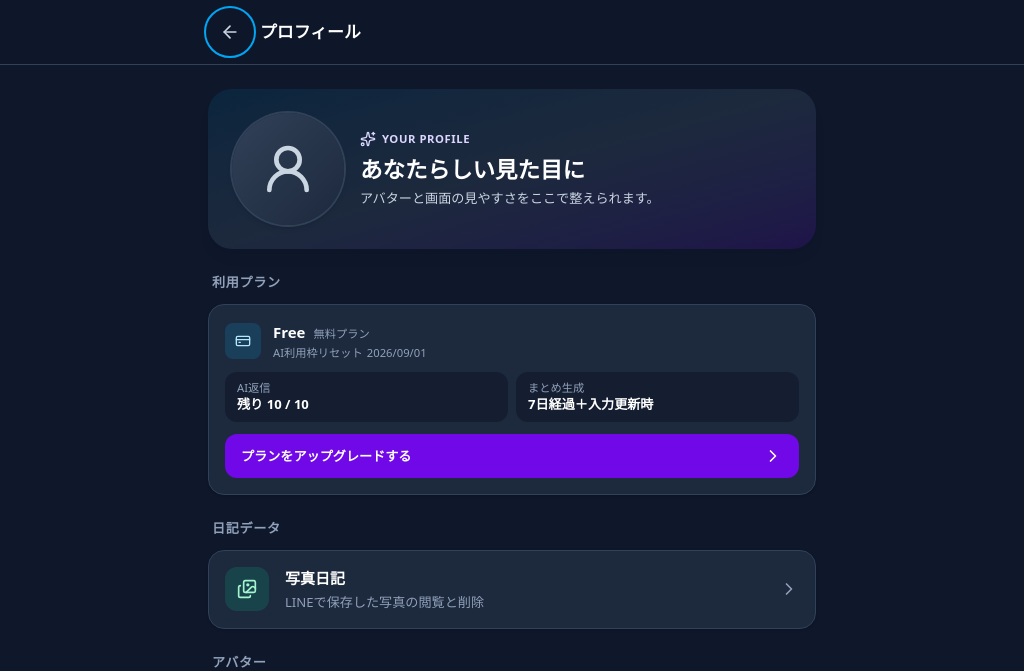
Test: App › /profileの直接表示を閉じるとわたしのまとめへ戻る
Expected: the heading "プロフィール" is shown, [260,19,361,45]
Click the button named "プロフィールを閉じる" at (230,32), box [208,10,252,54]
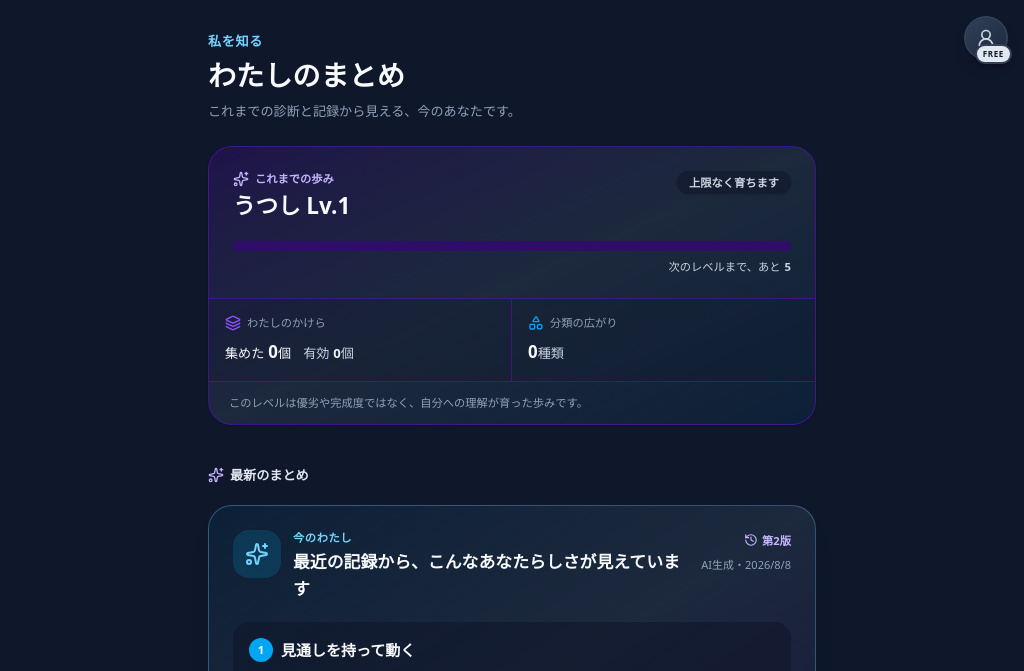
Expected: the heading "わたしのまとめ" is shown, [208,56,405,94]
Now the heading "プロフィール" is gone
